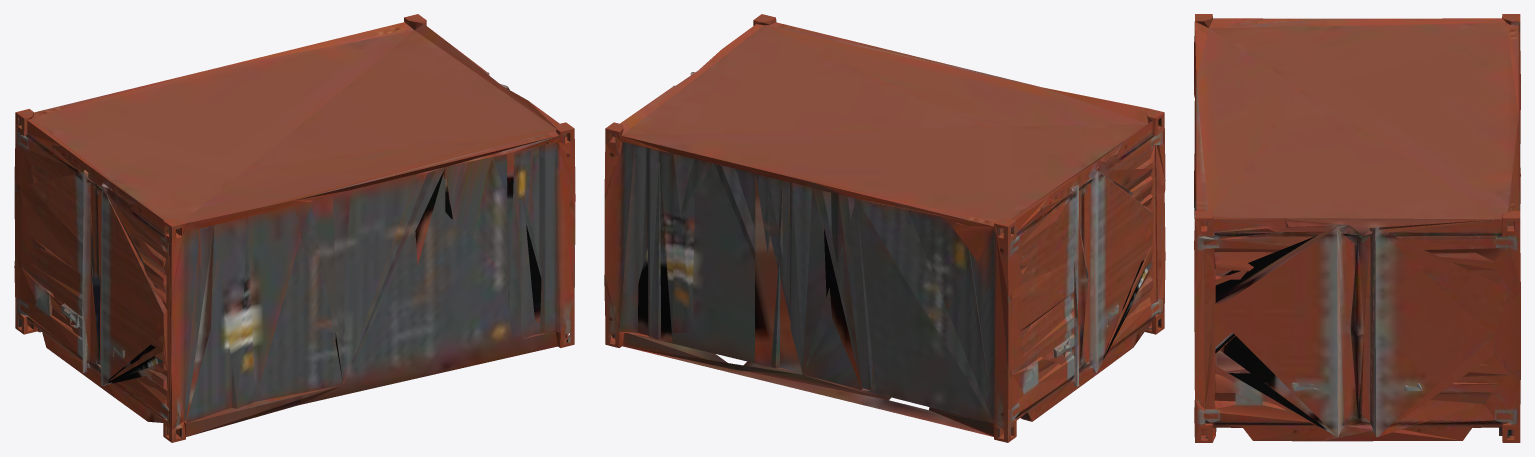
File: container.glb
3 renders of one model, left to right at view 1: azimuth 30°, elevation 25°; view 2: azimuth 150°, elevation 25°; view 3: azimuth 270°, elevation 25°, orthographic. The views are drawn at different scales.
Parts seen in each view (by area): view 1: output_unwrapped; view 2: output_unwrapped; view 3: output_unwrapped.
Part boxes in pixels (x1,y1,x2,y2): output_unwrapped: (14,14,575,442); output_unwrapped: (604,14,1165,442); output_unwrapped: (1194,14,1520,442).
Size of the model in its own units: 1.9 by 0.9663 by 1.27.
Materials: 1 (1 with a texture image).
